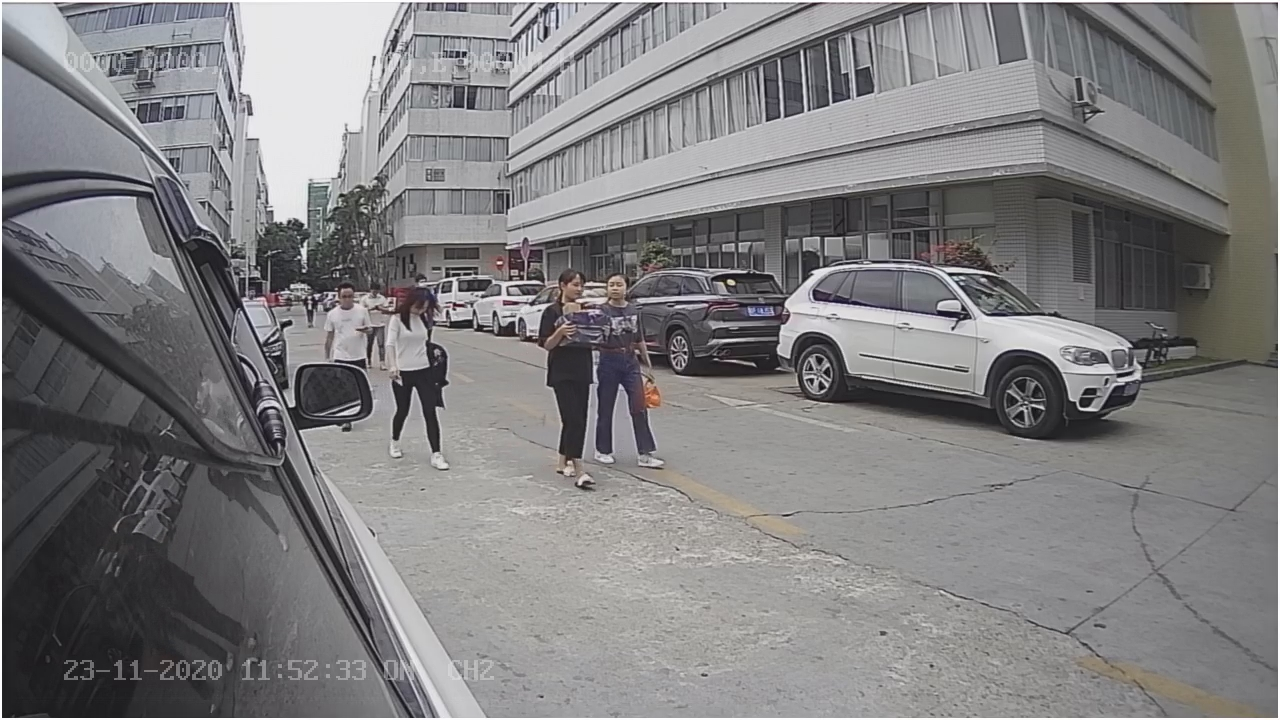person: (596, 266, 667, 467), (542, 263, 597, 493), (388, 278, 447, 464)
